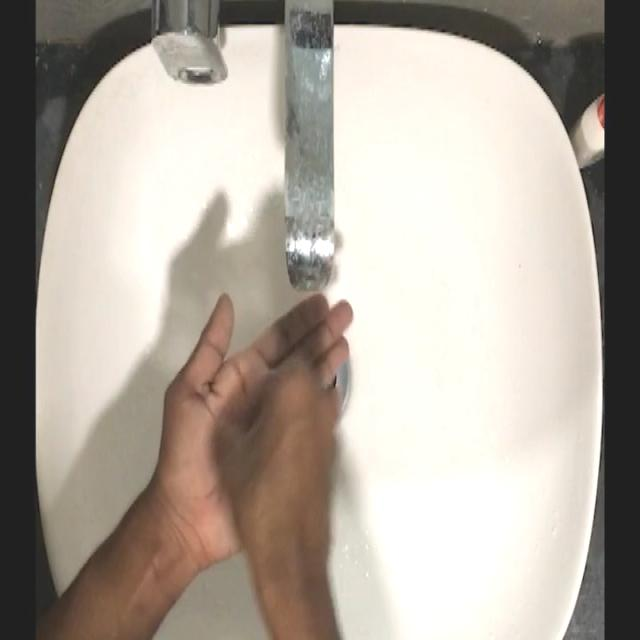step_6: (153, 288, 364, 572)
